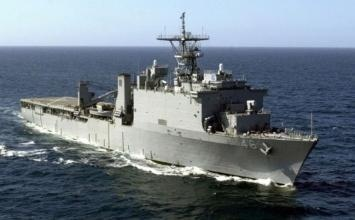warship: (14, 1, 320, 189)
